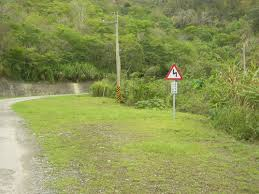Double_bend_left: (164, 61, 185, 81)
